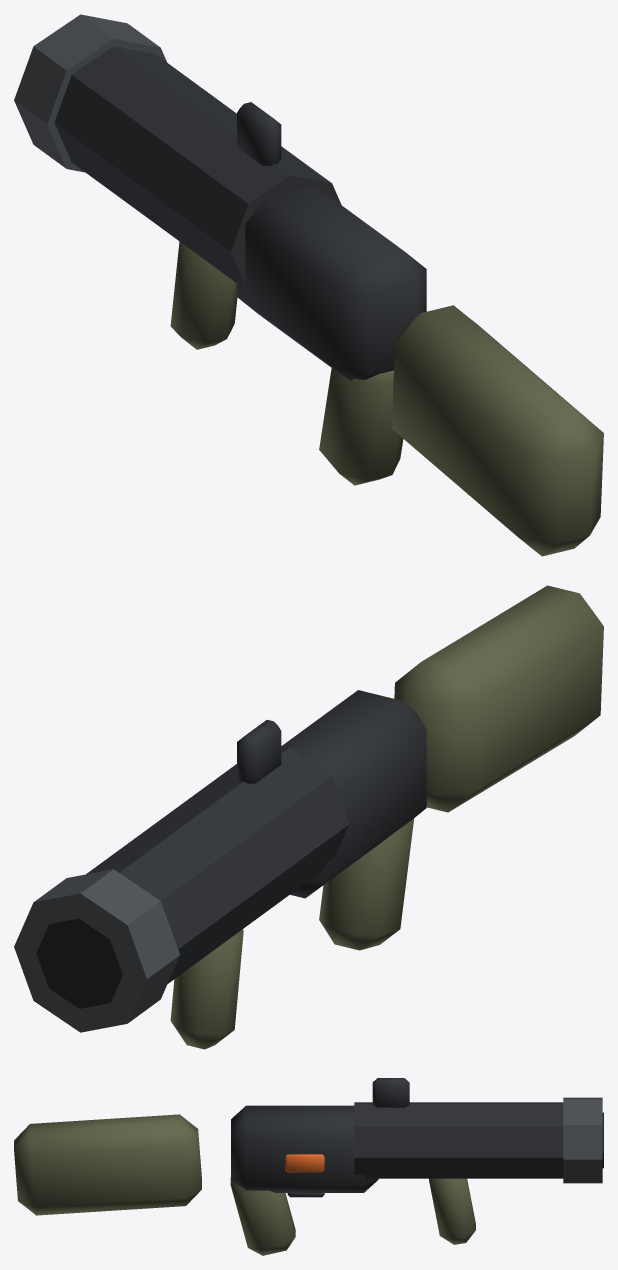
File: weapon_grenade_launcher.glb
3 views of the same model, one above another, from view 1: azimuth 30°, elevation 25°; view 2: azimuth 150°, elevation 25°; view 3: azimuth 270°, elevation 25° (orthographic). The views are drawn at different scales.
Parts seen in each view (by area): view 1: weapon_grenade_launcher; view 2: weapon_grenade_launcher; view 3: weapon_grenade_launcher.
Boxes of the visible parts, x1,y1,x2,y2 form: weapon_grenade_launcher: (14, 14, 603, 556); weapon_grenade_launcher: (14, 585, 603, 1049); weapon_grenade_launcher: (14, 1078, 603, 1255).
Bounding box in the file's own units: 0.0925 × 0.1941 × 0.5993.
1 material, 1 textured.
